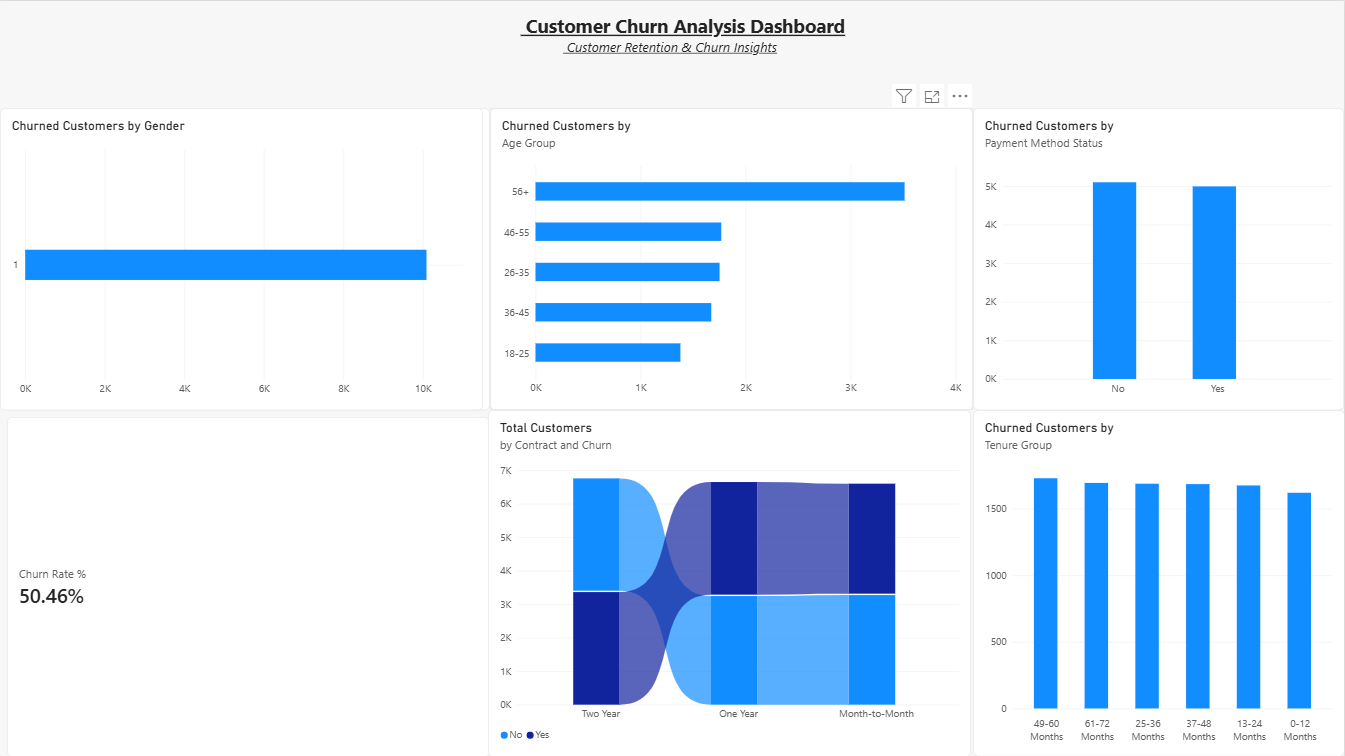

The dashboard page shown, as its layout file describes it:
{"tool":"powerbi","page":{"name":"Page 1","canvas":[1920,1080],"ordinal":0},"visuals":[{"type":"clusteredBarChart","fields":{"Y":["CountNonNull(Sheet.Gender)"]},"box":[9.8,152.2,689.9,432.1],"z":0},{"type":"cardVisual","fields":{"Data":["All Measures.Churn Rate %"]},"box":[10,594,690,486],"z":1000},{"type":"ribbonChart","fields":{"Category":["Sheet.Contract"],"Series":["Sheet.Churn"],"Y":["All Measures.Total Customers"]},"box":[697.3,584.6,689.9,496],"z":2000},{"type":"clusteredBarChart","title":"Churned Customers by ","fields":{"Category":["Sheet.Age Group"],"Y":["All Measures.Total Churned"]},"box":[699.7,152.2,690,432],"z":2001},{"type":"clusteredColumnChart","title":"Churned Customers by ","fields":{"Category":["Sheet.PaymentMethod"],"Y":["All Measures.Total Churned"]},"box":[1389.7,152.2,530.3,432.1],"z":2002},{"type":"clusteredColumnChart","title":"Churned Customers by ","fields":{"Category":["Sheet.Tenure Group"],"Y":["All Measures.Total Churned"]},"box":[1390.4,584.6,531.5,495.4],"z":2003},{"type":"textbox","box":[10.6,17,1894.3,119.1],"z":2004},{"type":"clusteredBarChart","title":"Churned Customers by Gender","fields":{"Category":["Sheet.Total Churned"],"Y":["CountNonNull(Sheet.Gender)"]},"box":[19.8,162.2,689.9,432.1],"z":2005}]}

Visuals, with their boxes in screenshot pixels (x1, y1, x2, y2), scaled from the page's 1920x1080 canvas onto the 1345x756 screenshot:
clusteredBarChart - CountNonNull(Sheet.Gender): crop(7, 107, 490, 409)
cardVisual - All Measures.Churn Rate %: crop(7, 416, 490, 755)
ribbonChart - Sheet.Contract x Sheet.Churn: crop(488, 409, 972, 755)
"Churned Customers by " clusteredBarChart: crop(490, 107, 974, 409)
"Churned Customers by " clusteredColumnChart: crop(974, 107, 1344, 409)
"Churned Customers by " clusteredColumnChart: crop(974, 409, 1344, 755)
textbox: crop(7, 12, 1334, 95)
"Churned Customers by Gender" clusteredBarChart: crop(14, 114, 497, 416)
